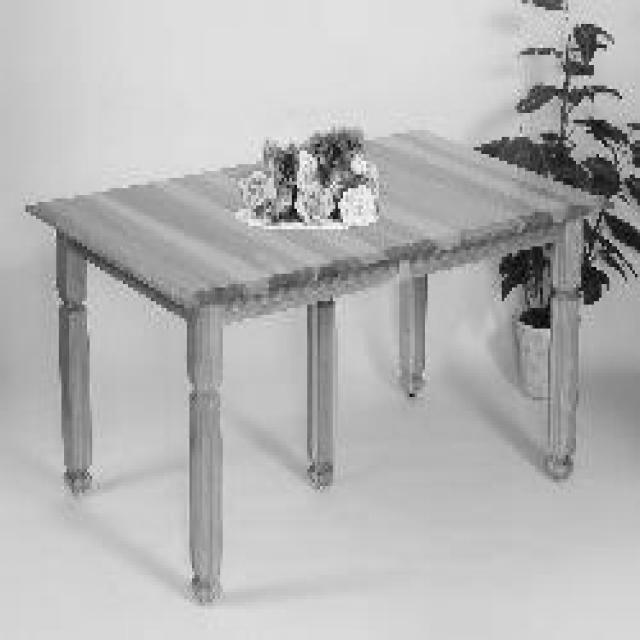table: (27, 125, 614, 601)
